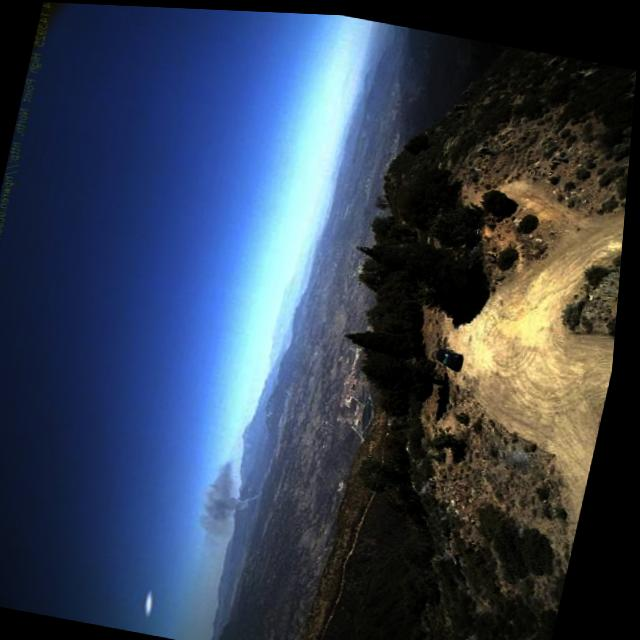smoke: (197, 454, 275, 544)
